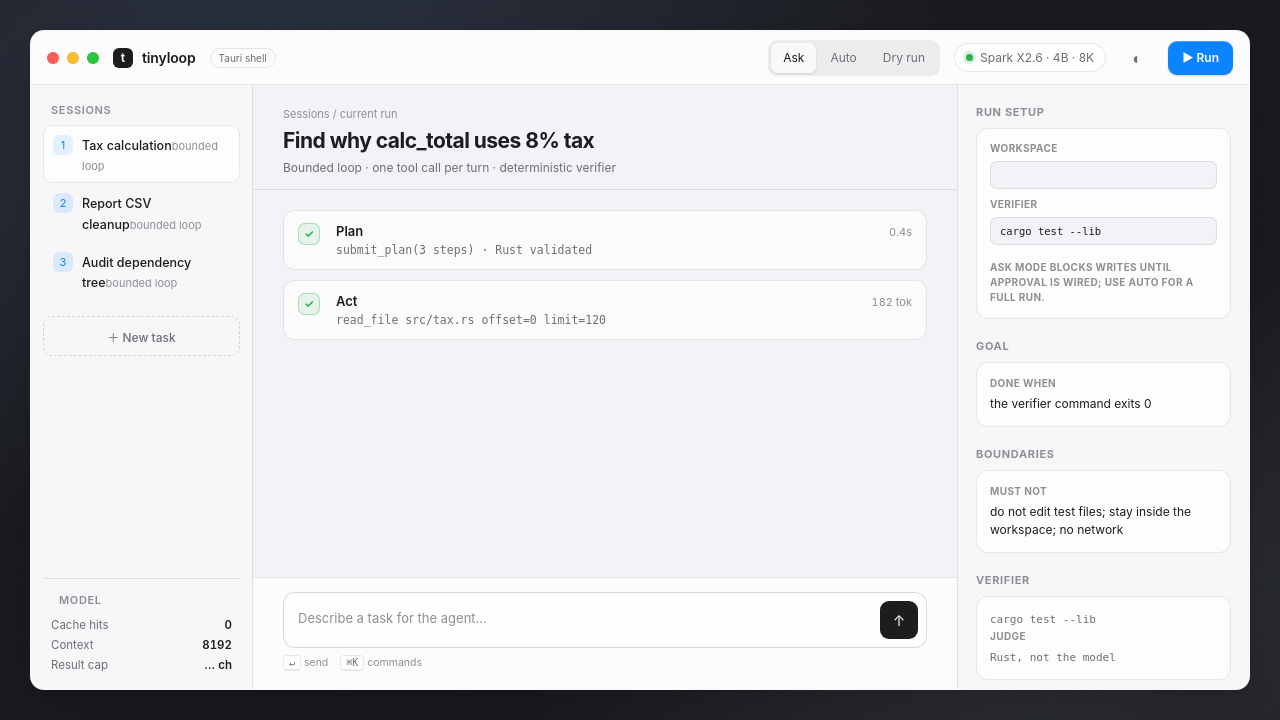
Test: tinyloop desktop under Tauri › surfaces a core failure as a blocked step and a denial
Click the button with test id "run-button" at (1201, 58), box x1=1168 y1=40 x2=1233 y2=74
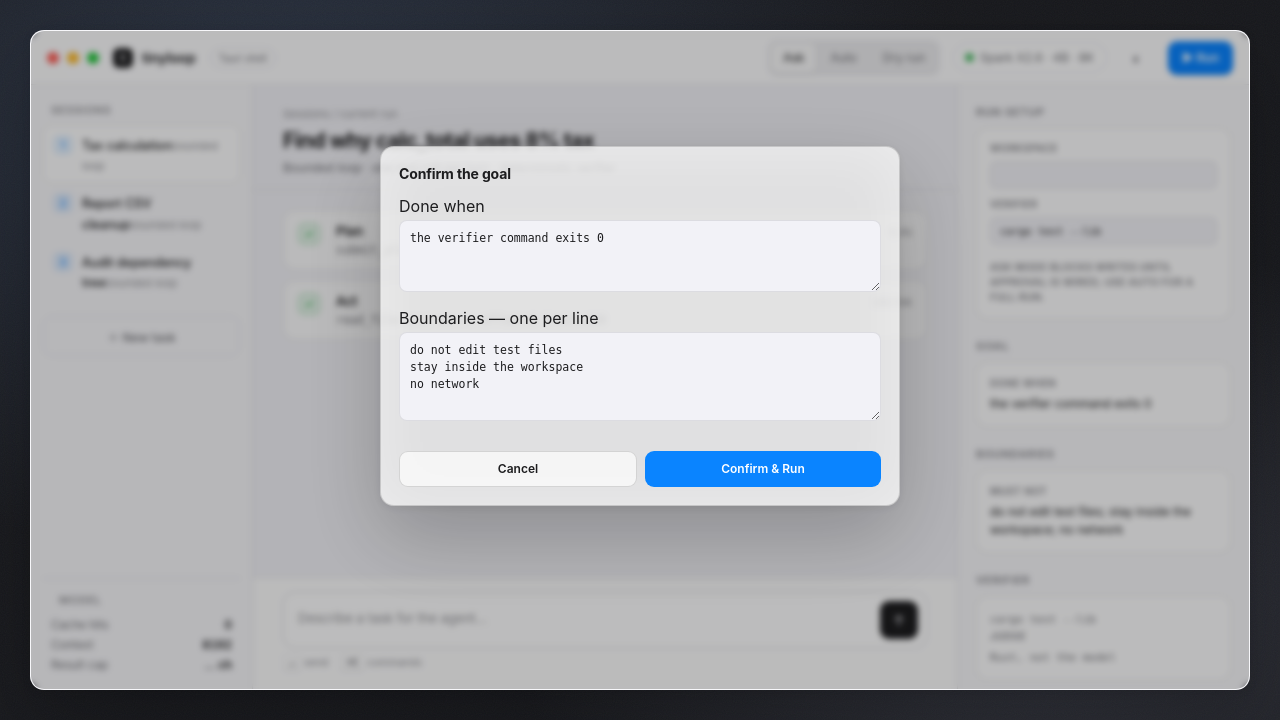
Click the button with test id "clarify-confirm" at (763, 469), box x1=645 y1=451 x2=881 y2=487
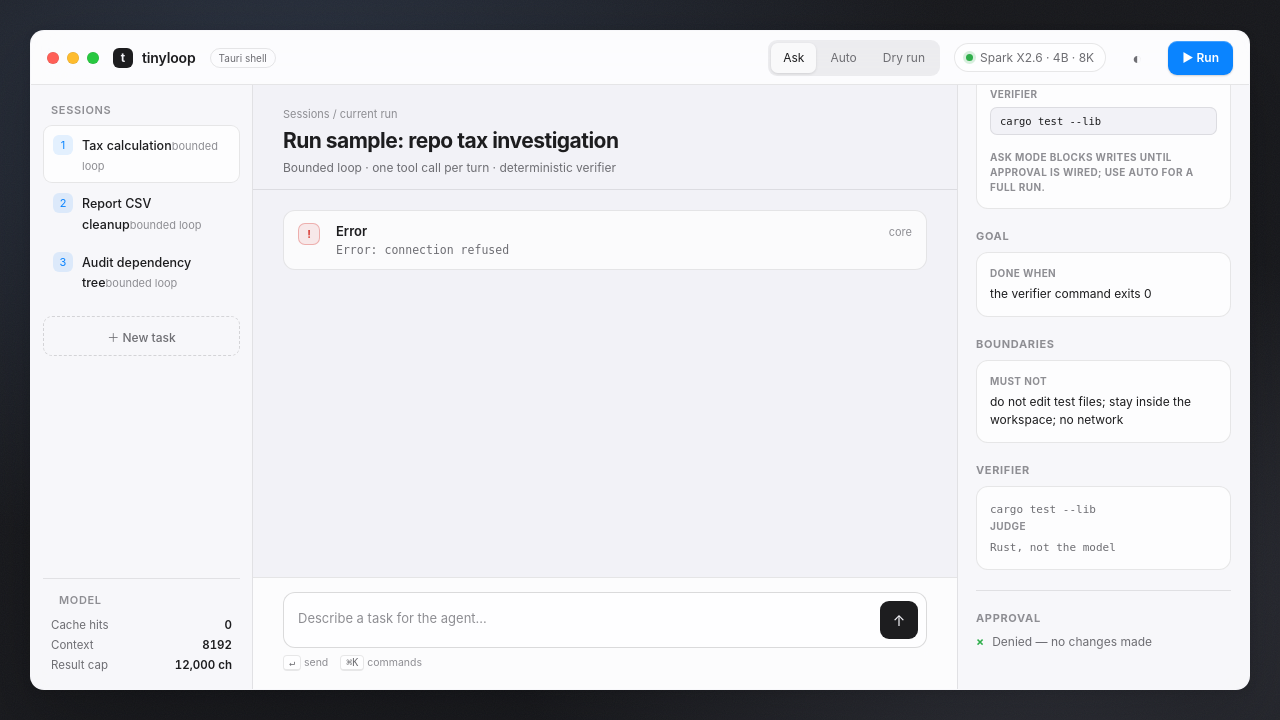
Expected: the text "Error: connection refused" is shown, x1=336 y1=243 x2=509 y2=257
Expected: the text "Denied — no changes made" is shown, x1=992 y1=634 x2=1152 y2=649
